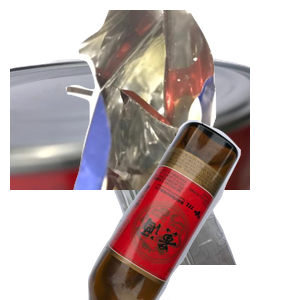glass: (85, 120, 300, 300)
metal: (10, 52, 250, 232)
plastic: (55, 120, 284, 300)
trash: (63, 10, 300, 190)
